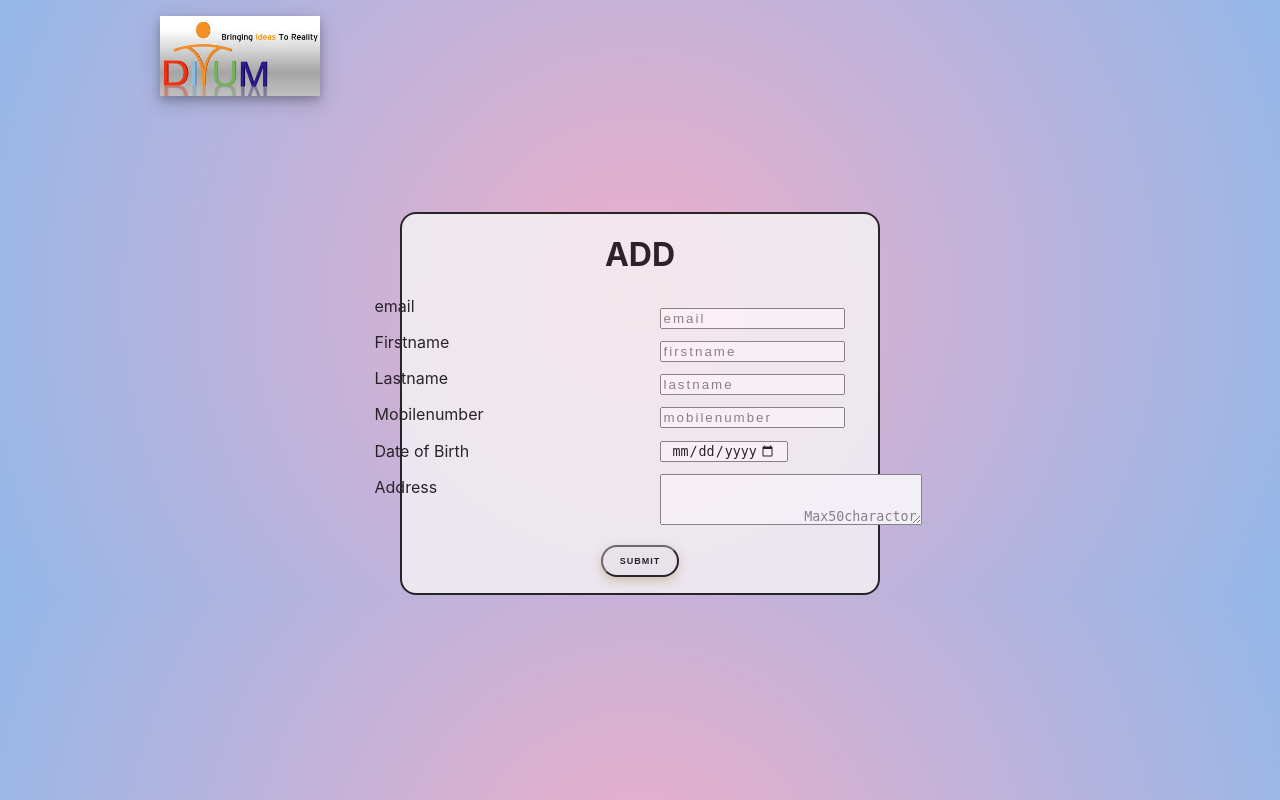
Test: add firstnamechecking test1
Type "ragul86100gmail." into the field with placeholder "firstname". click: (752, 351)
box: [660, 341, 844, 362]
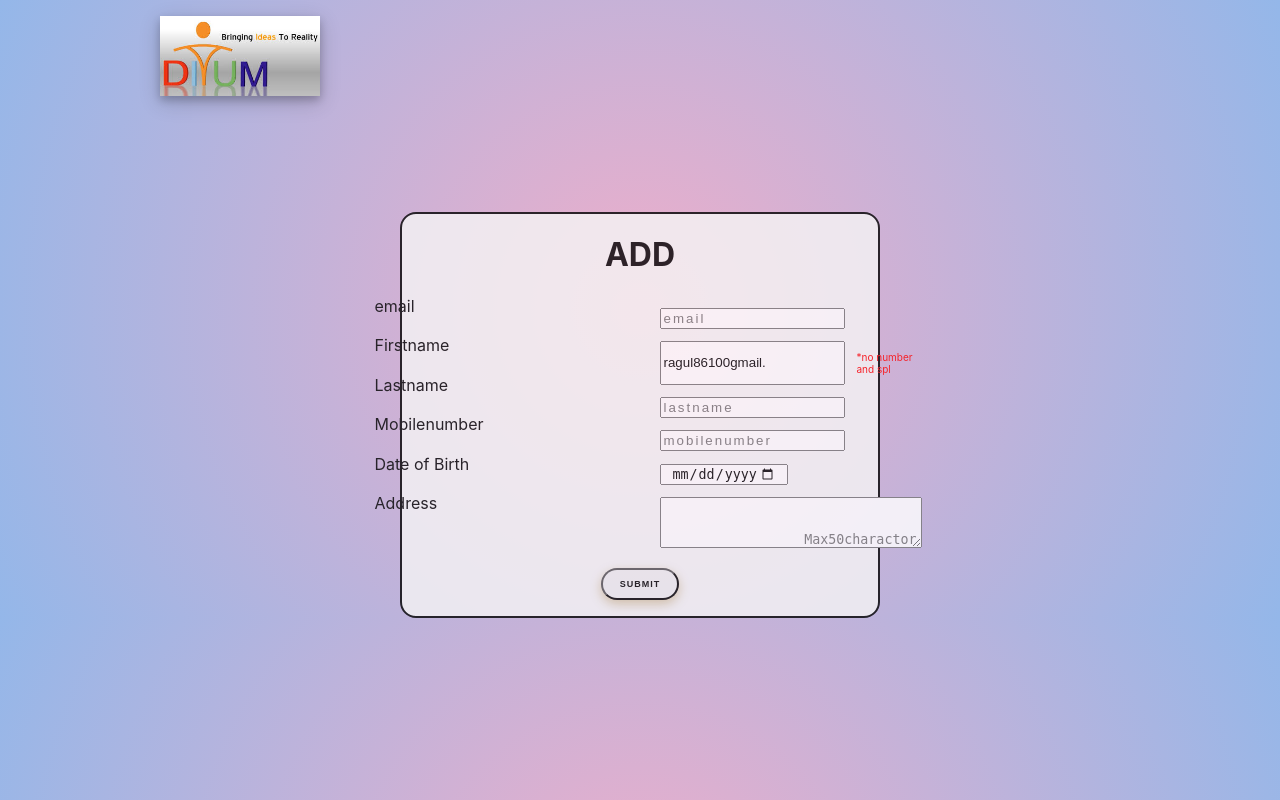
Check: the text "*no number and spl" is shown, box [856, 351, 922, 375]
